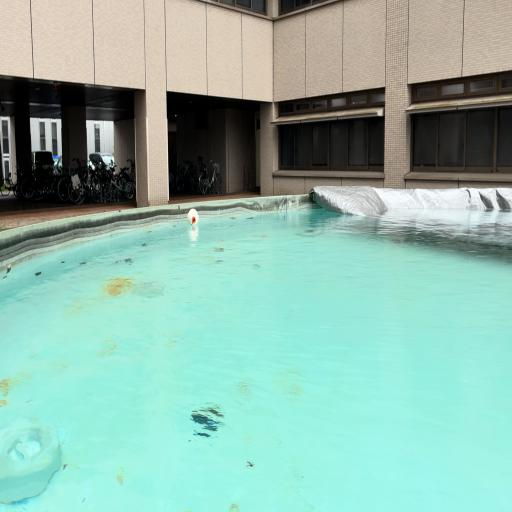white buoy: (188, 209, 199, 226)
